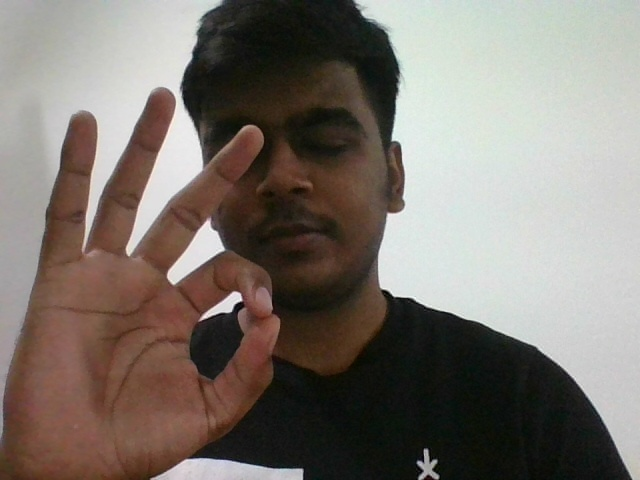ok: (22, 88, 269, 444)
